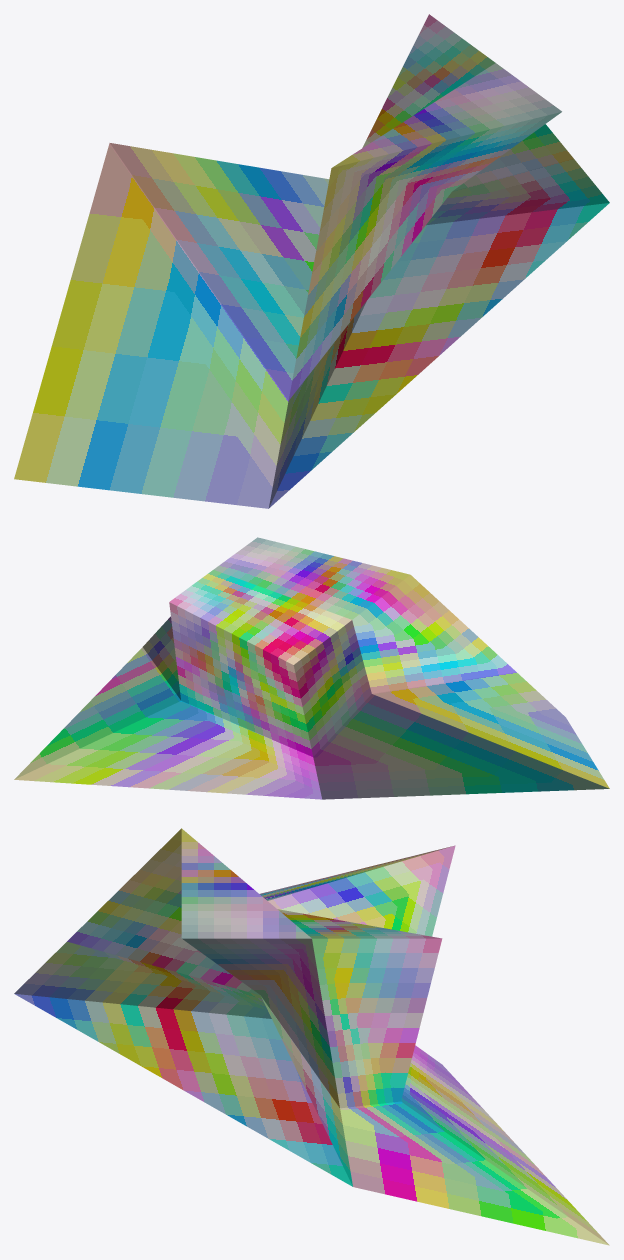
3 views of the same model, one above another, from view 1: azimuth 30°, elevation 25°; view 2: azimuth 150°, elevation 25°; view 3: azimuth 270°, elevation 25° (orthographic). The views are drawn at different scales.
Parts seen in each view (by area): view 1: Cube; view 2: Cube; view 3: Cube.
Boxes of the visible parts, left/top/right/bottom form: Cube: left=14, top=14, right=609, bottom=508; Cube: left=14, top=537, right=609, bottom=799; Cube: left=14, top=828, right=609, bottom=1245.
Bounding box in the file's own units: 5.96 × 2 × 4.57.
1 material, 1 textured.
